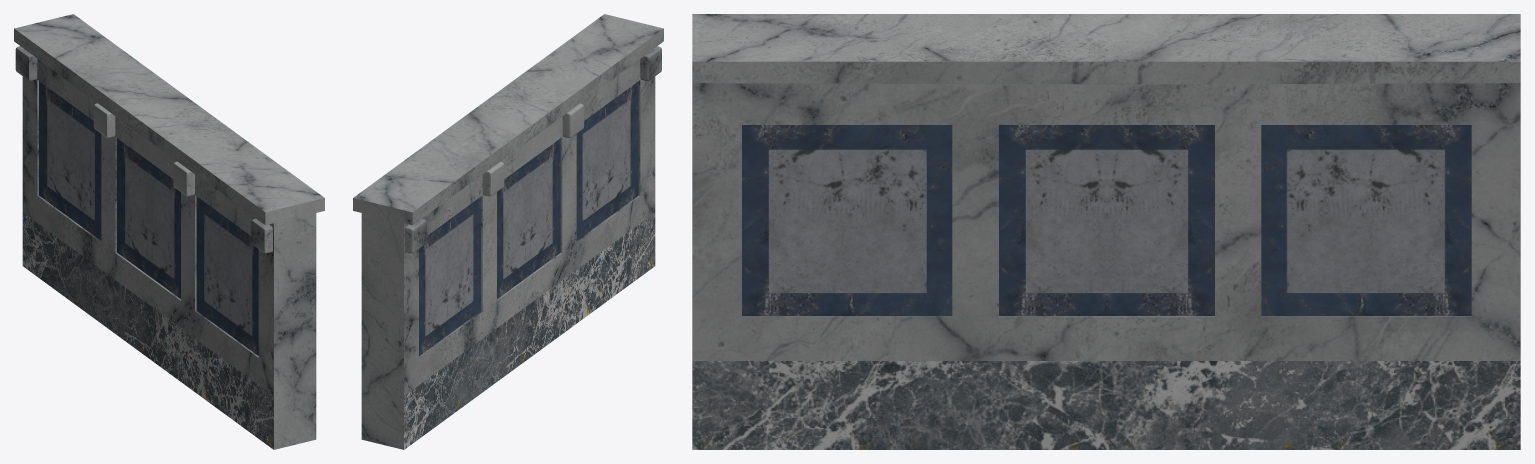
File: SM_WindoSill28A.fbx
3 renders of one model, left to right at view 1: azimuth 30°, elevation 25°; view 2: azimuth 150°, elevation 25°; view 3: azimuth 270°, elevation 25°, orthographic. The views are drawn at different scales.
Visible parts, largest first — view 1: SM_WindoSill28A; view 2: SM_WindoSill28A; view 3: SM_WindoSill28A.
Part boxes in pixels (box(x1,y1,x2,y2)): SM_WindoSill28A: box(14, 14, 324, 449); SM_WindoSill28A: box(353, 14, 663, 449); SM_WindoSill28A: box(692, 14, 1520, 449).
Size of the model in its own units: 16.76 by 123 by 64.57.
